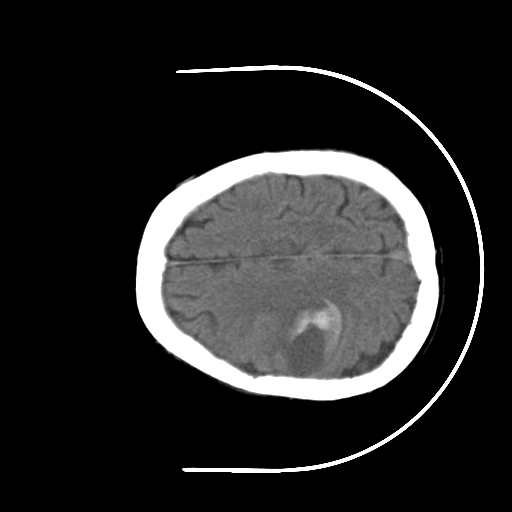a: (269, 289, 350, 386)
